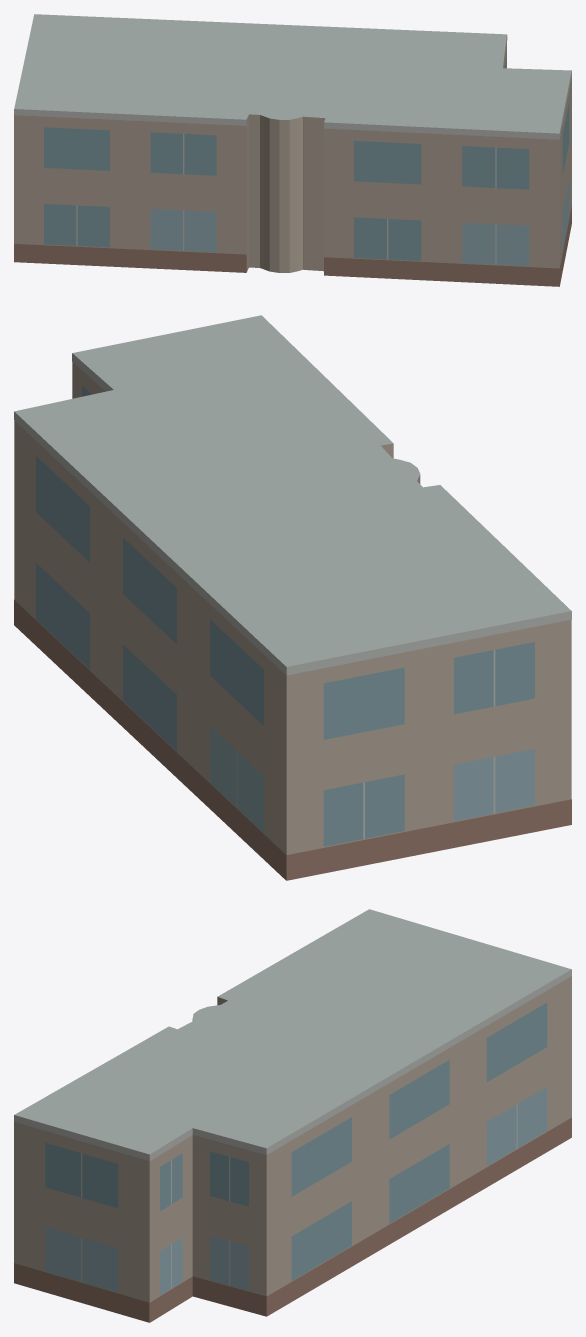
Rendered from survey-upis-32985488.glb.
3 renders of one model, top to bottom at view 1: azimuth 30°, elevation 25°; view 2: azimuth 150°, elevation 25°; view 3: azimuth 270°, elevation 25°, orthographic. The views are drawn at different scales.
Visible parts, largest first — view 1: survey-upis-32985488.tmp; view 2: survey-upis-32985488.tmp; view 3: survey-upis-32985488.tmp.
Boxes of the visible parts, bbox=[...] form: survey-upis-32985488.tmp: bbox=[14, 14, 571, 286]; survey-upis-32985488.tmp: bbox=[14, 315, 571, 880]; survey-upis-32985488.tmp: bbox=[14, 909, 571, 1322].
Bounding box in the file's own units: 19.09 × 6.1 × 18.33.
